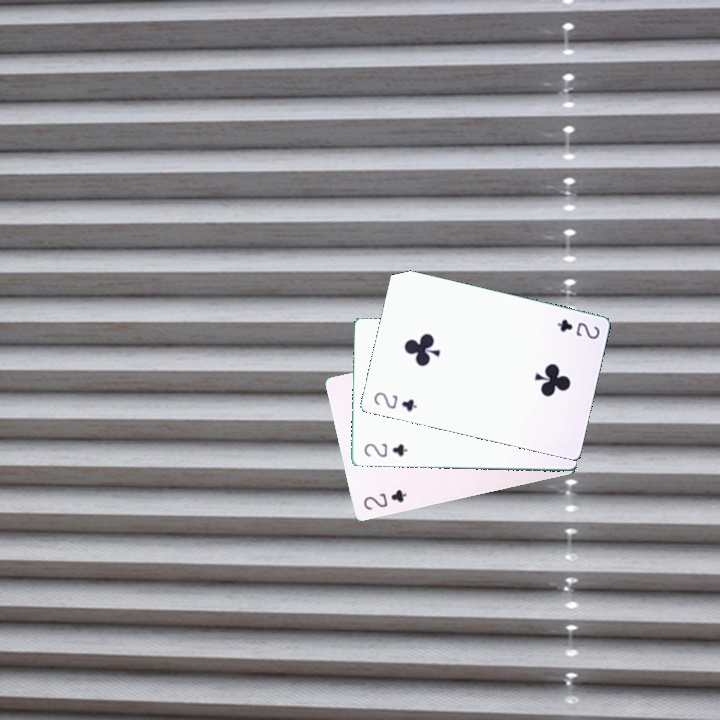2c: (359, 485, 409, 512), (553, 315, 602, 342), (370, 388, 420, 414), (360, 439, 410, 460)
